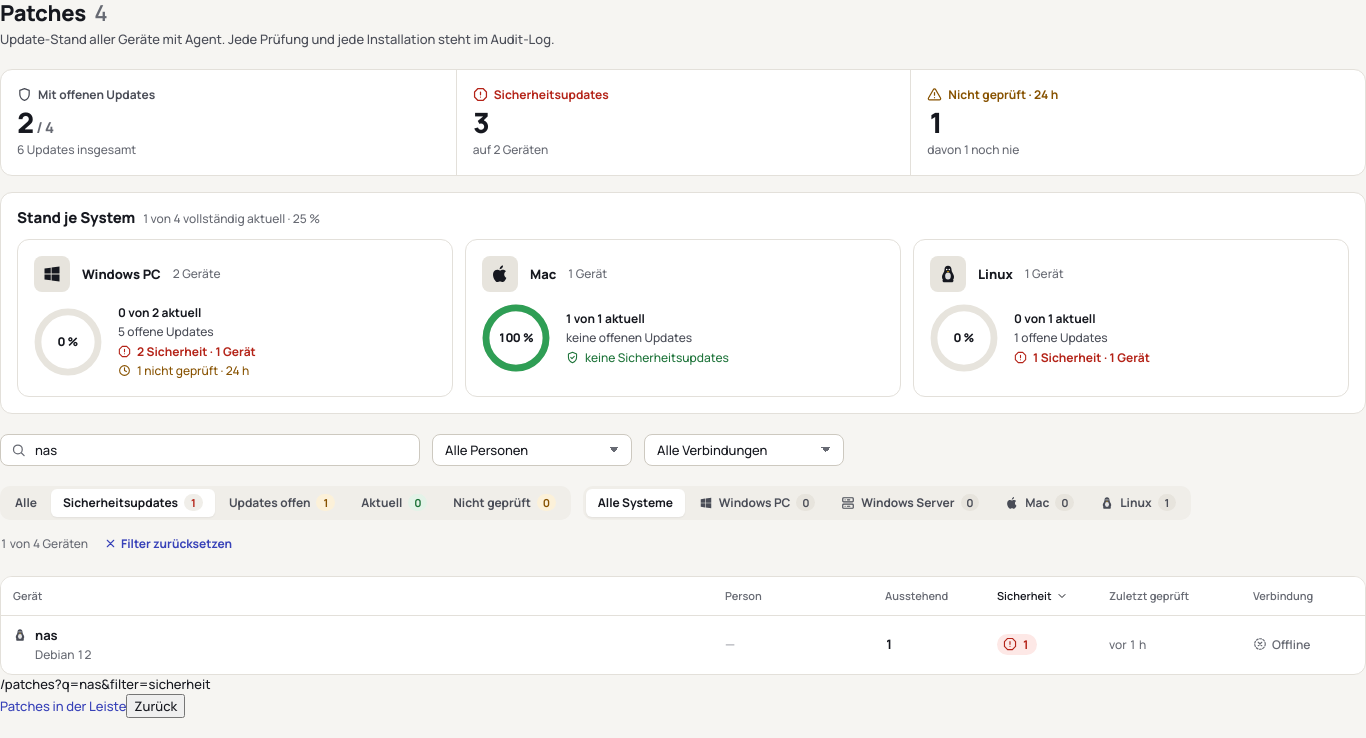
PatchesPage Filter › übernimmt die Suche aus der Adresse, wenn die Leiste die Seite neu öffnet
Click the link "Patches in der Leiste": x=63, y=706 [0,697,126,715]
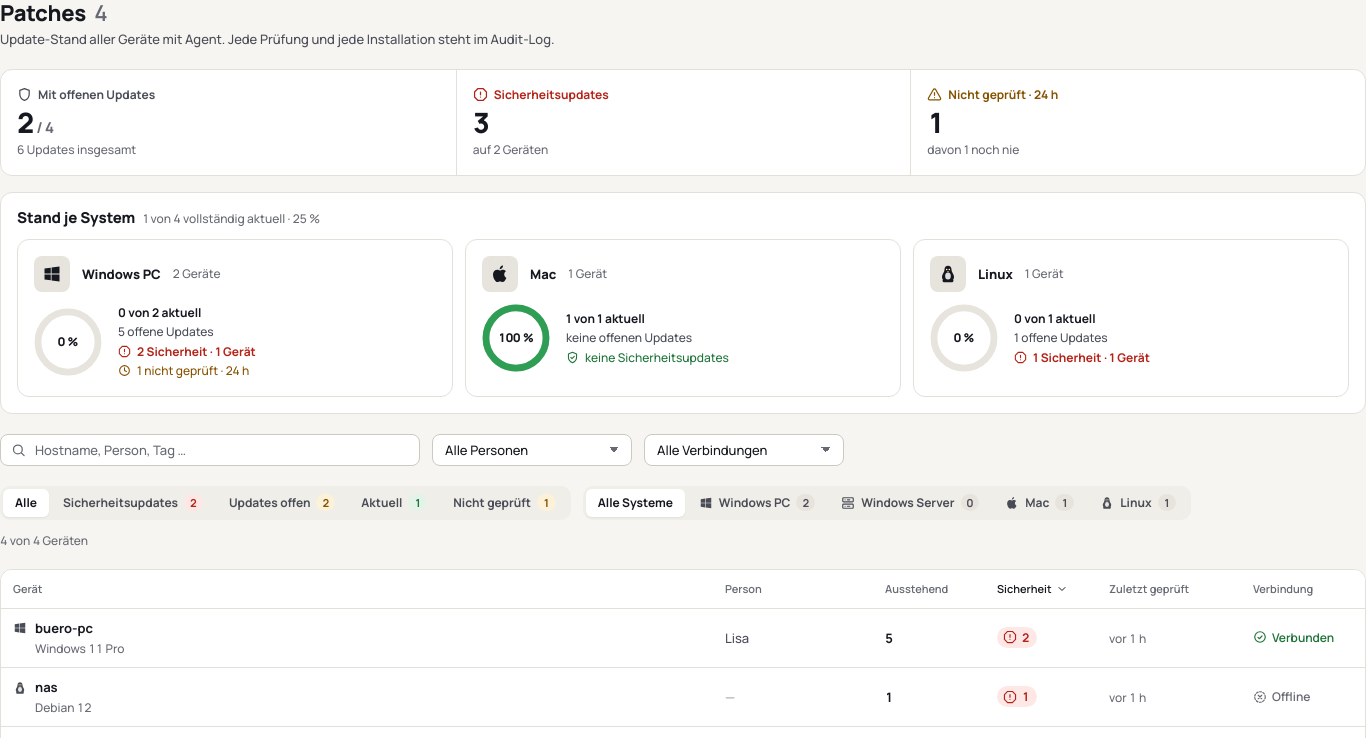
Expected: the search field named "Geräte durchsuchen" is empty, [0,434,420,466]
Expected: the button "Filter zurücksetzen" is gone
